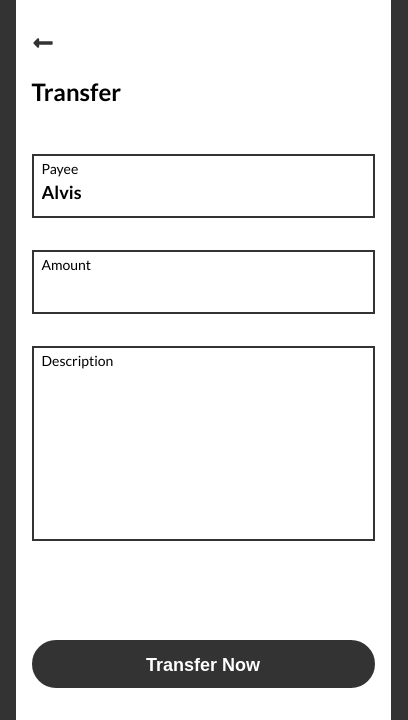
it: validate transfer form › Invalid amount
Expected: the dropdown labelled "Payee" is shown, [42,176,364,208]
In the number field labelled "Amount": (203, 288) [42,272,364,304], type "-1000"
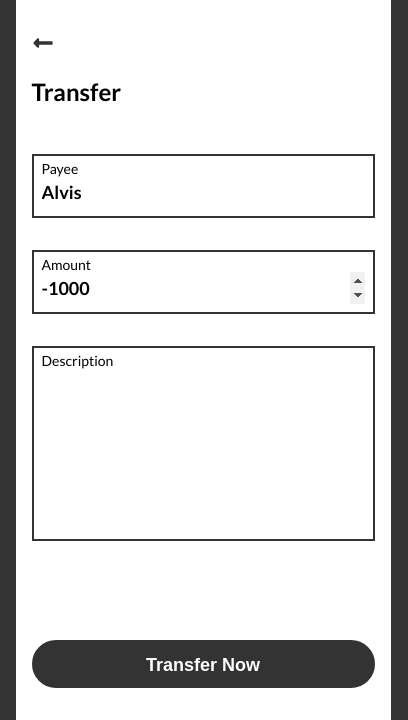
Click the button "Transfer Now": (203, 664) [32,640,374,688]
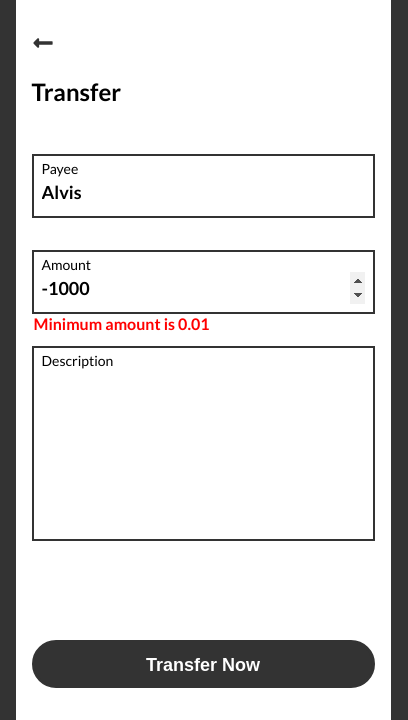
Now the messages read "Minimum amount is 0.01", in this order, box [34,314,210,333]
